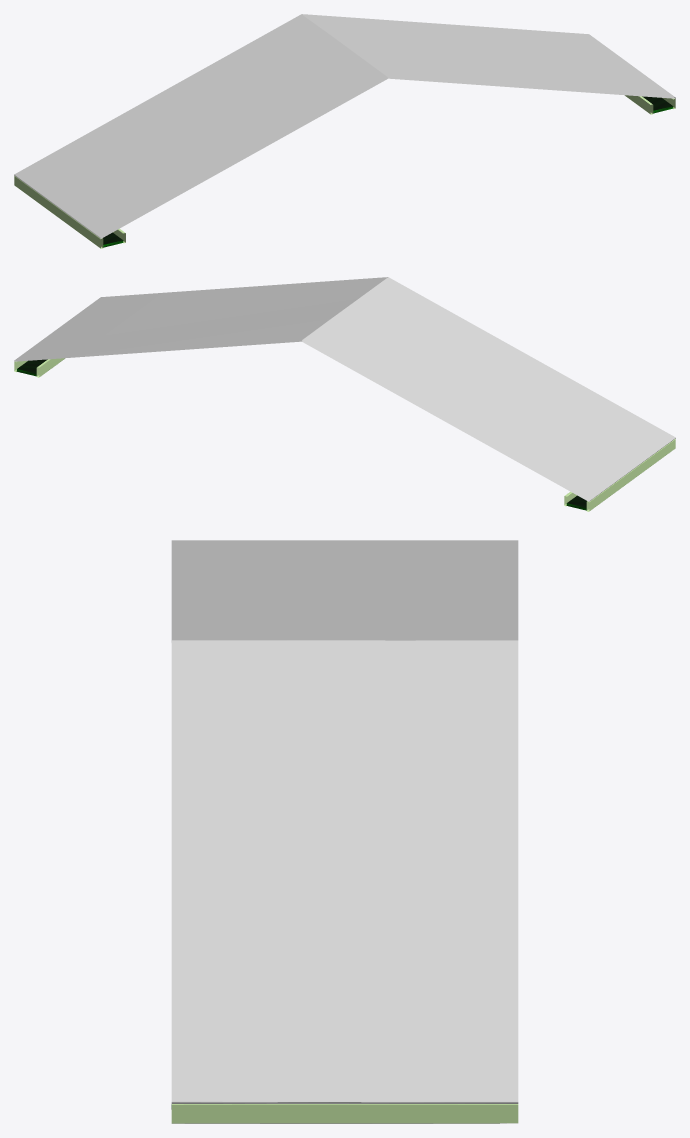
Rendered from SM_House_Roof_A_Mid.fbx.
3 views of the same model, one above another, from view 1: azimuth 30°, elevation 25°; view 2: azimuth 150°, elevation 25°; view 3: azimuth 270°, elevation 25° (orthographic). The views are drawn at different scales.
Visible parts, largest first — view 1: SM_House_Roof_A_Mid; view 2: SM_House_Roof_A_Mid; view 3: SM_House_Roof_A_Mid.
Part boxes in pixels (<box>): SM_House_Roof_A_Mid: <box>14,14,675,248</box>; SM_House_Roof_A_Mid: <box>14,277,675,511</box>; SM_House_Roof_A_Mid: <box>171,540,518,1123</box>.
Size of the model in its own units: 1151 by 300 by 194.
